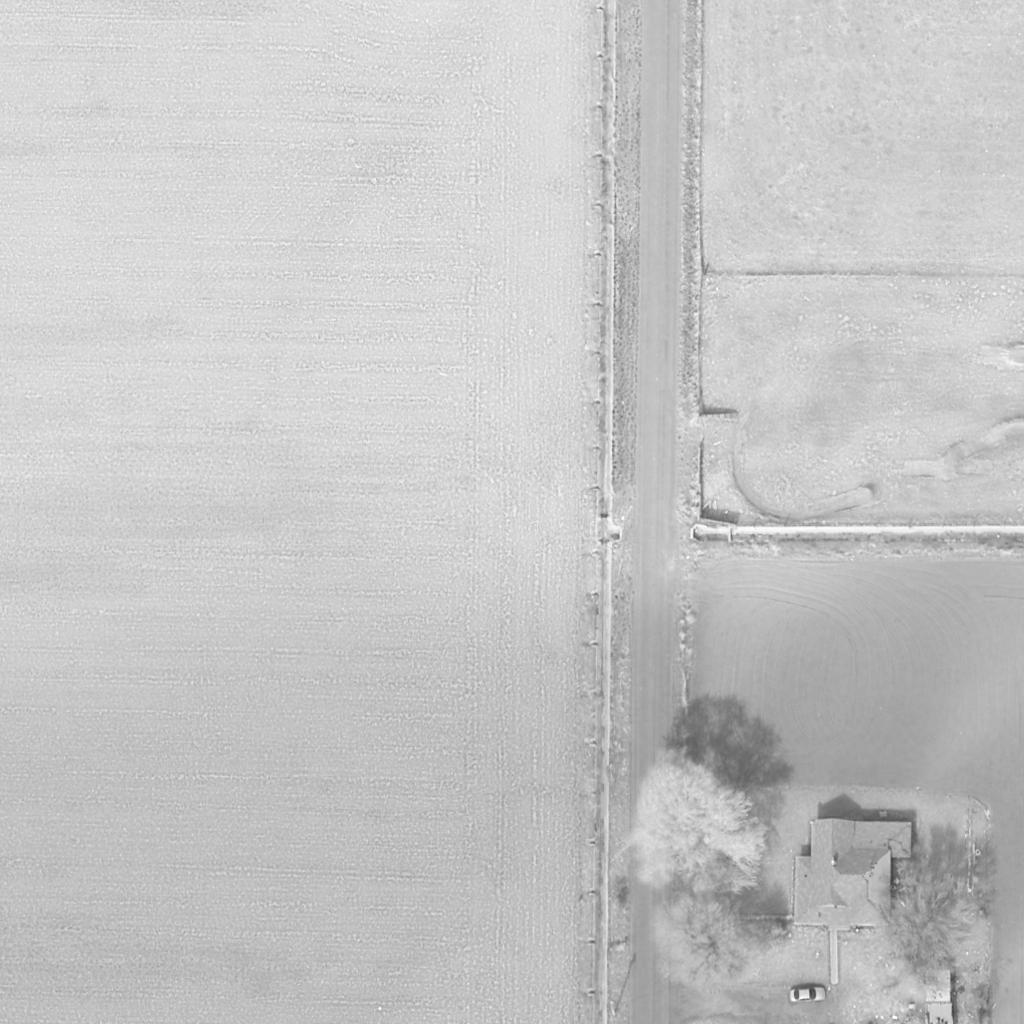vehicle: (789, 986, 825, 1002)
